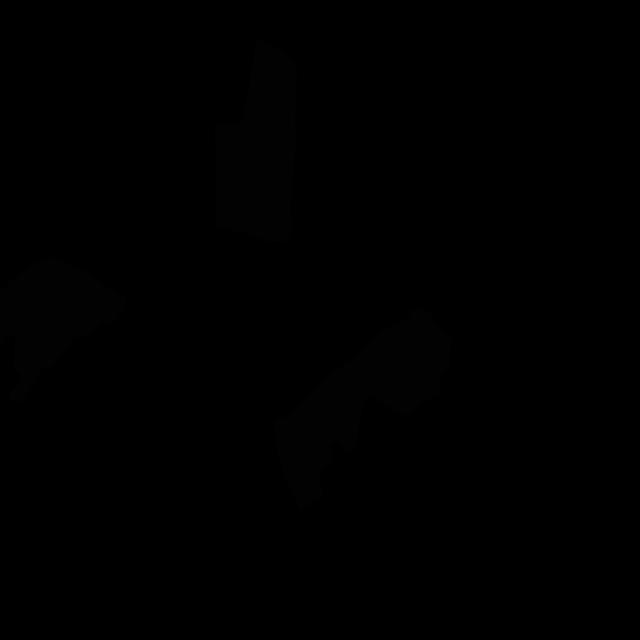cardboard: (274, 308, 452, 510), (0, 256, 126, 403), (214, 39, 298, 243)
